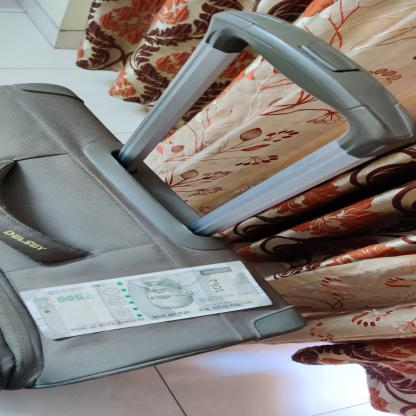New500Front: (21, 260, 274, 340)
